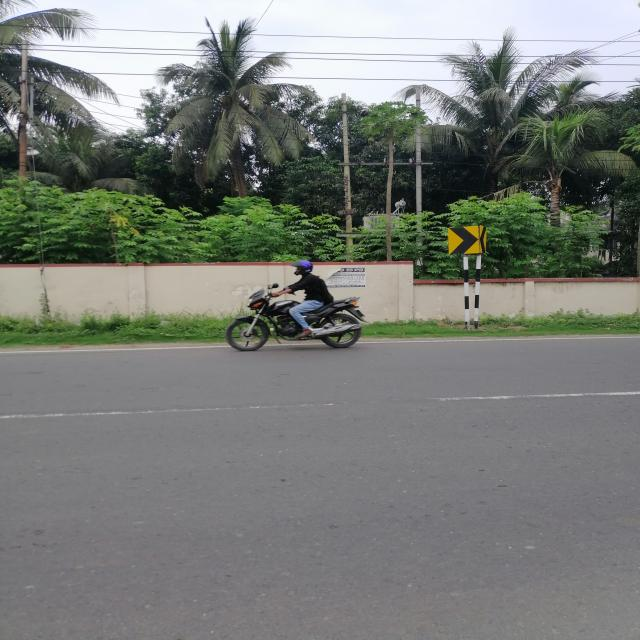Motorbike: (225, 282, 372, 352)
